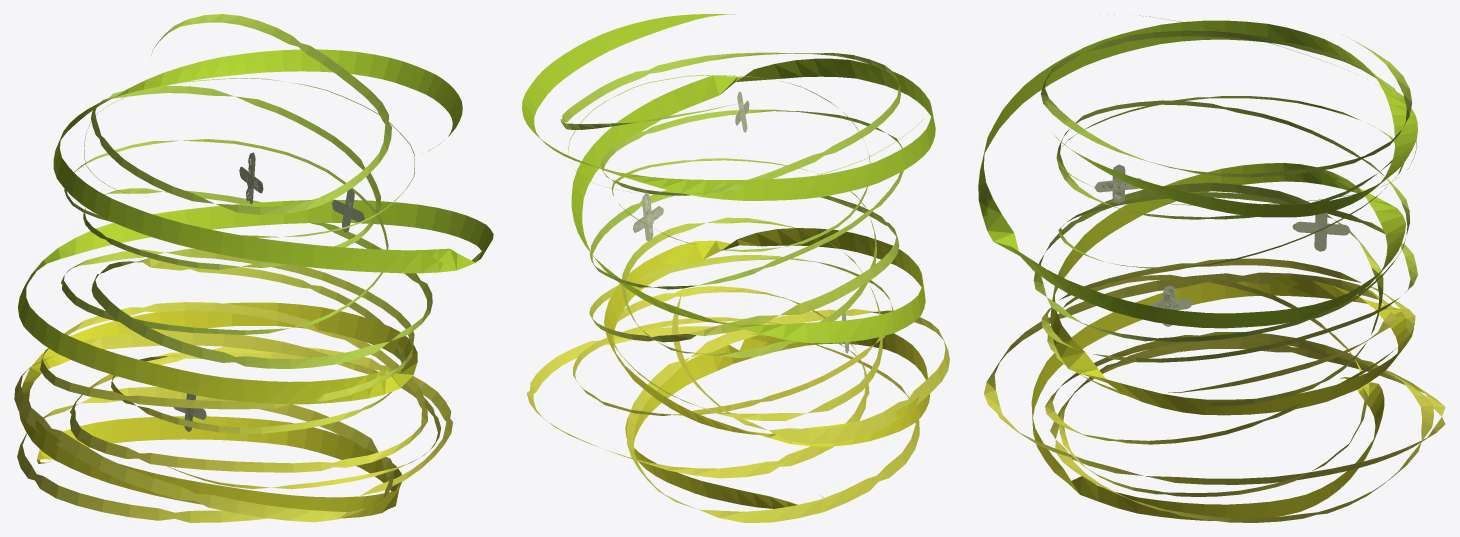
The model's file is Fx_Healing.fbx.
The picture shows the model from 3 angles, left to right: view 1: azimuth 30°, elevation 25°; view 2: azimuth 150°, elevation 25°; view 3: azimuth 270°, elevation 25°; orthographic projection. The views are drawn at different scales.
Visible parts, largest first — view 1: HealingRoom; view 2: HealingRoom; view 3: HealingRoom.
Part boxes in pixels (x1,y1,x2,y2): HealingRoom: (14,14,493,522); HealingRoom: (522,14,949,522); HealingRoom: (978,14,1445,522).
Size of the model in its own units: 5.58 by 5.59 by 5.59.
